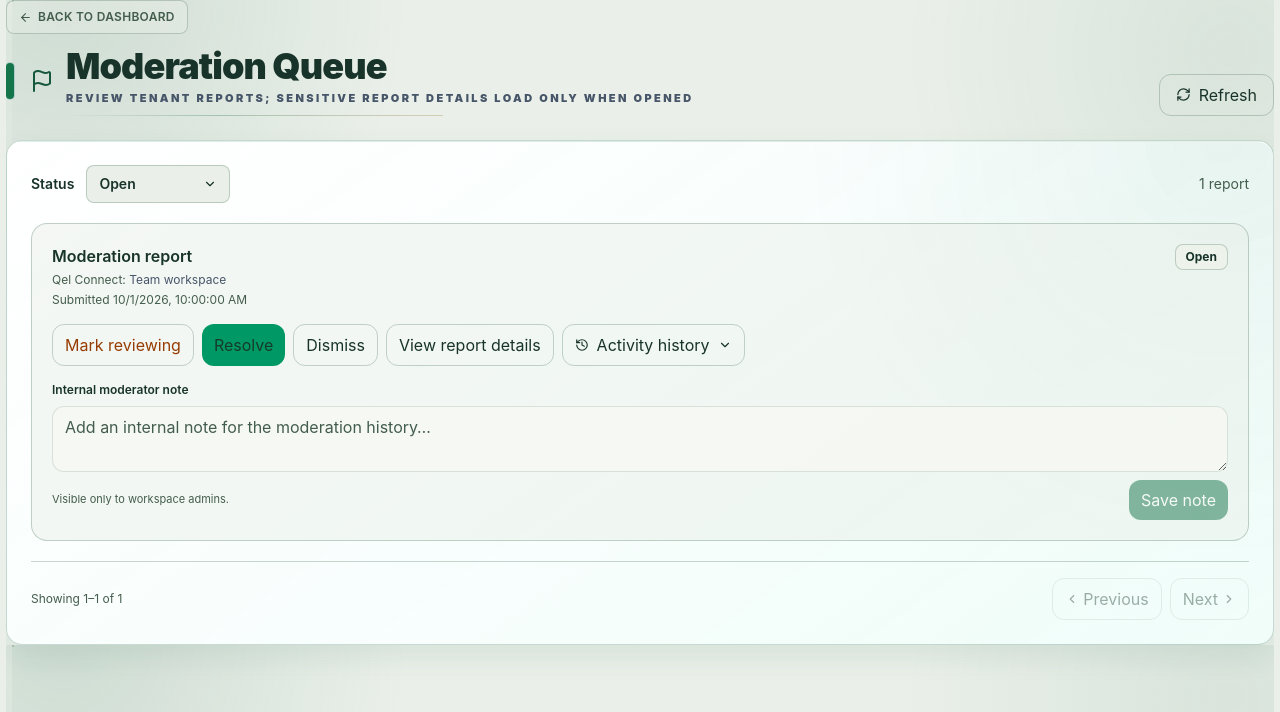
Test case: collection moderation page › saves internal notes separately and shows append-only activity history
This screenshot has width=1280, height=712.
Expected: the heading "Moderation report" is shown, [52,246,192,266]
Click the button "View report details". click: (470, 344)
box: [386,324,554,366]
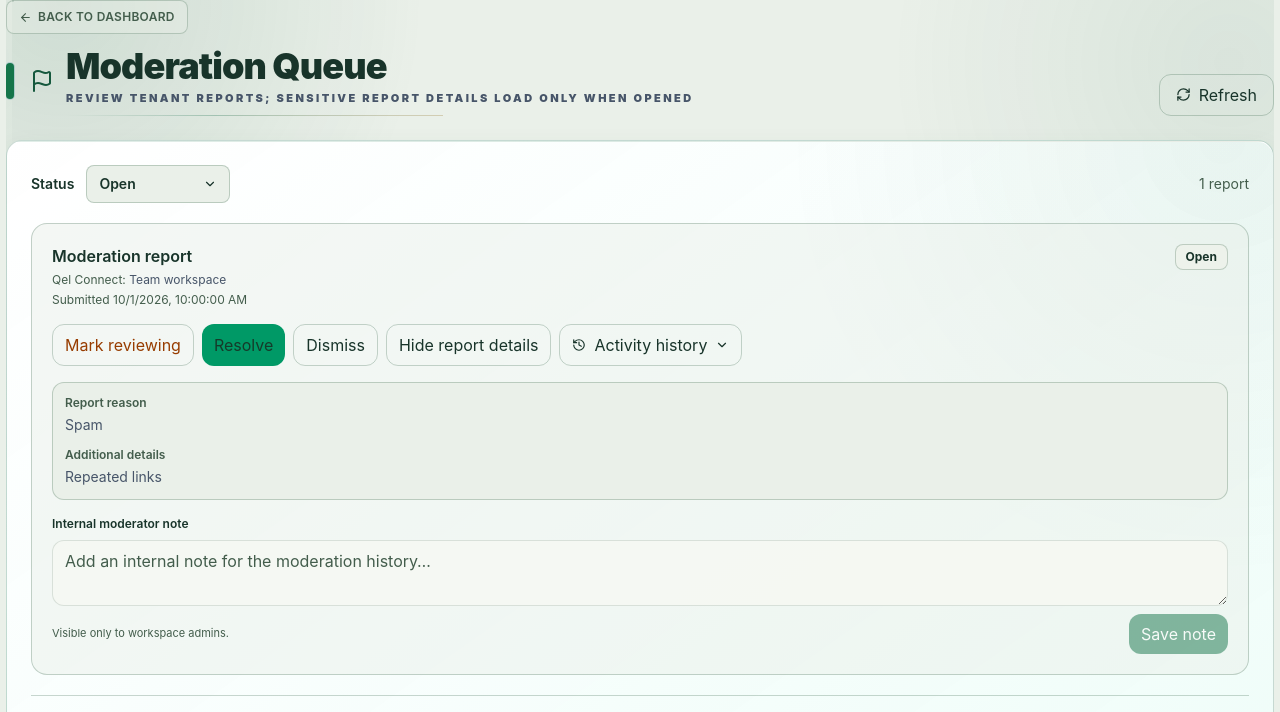
Now the text "Repeated links" is shown, box [65,468,162,484]
Type "Confirmed with the workspace owner." into the text box labelled "Internal moderator note". click: (640, 572)
box: [52,540,1228,606]
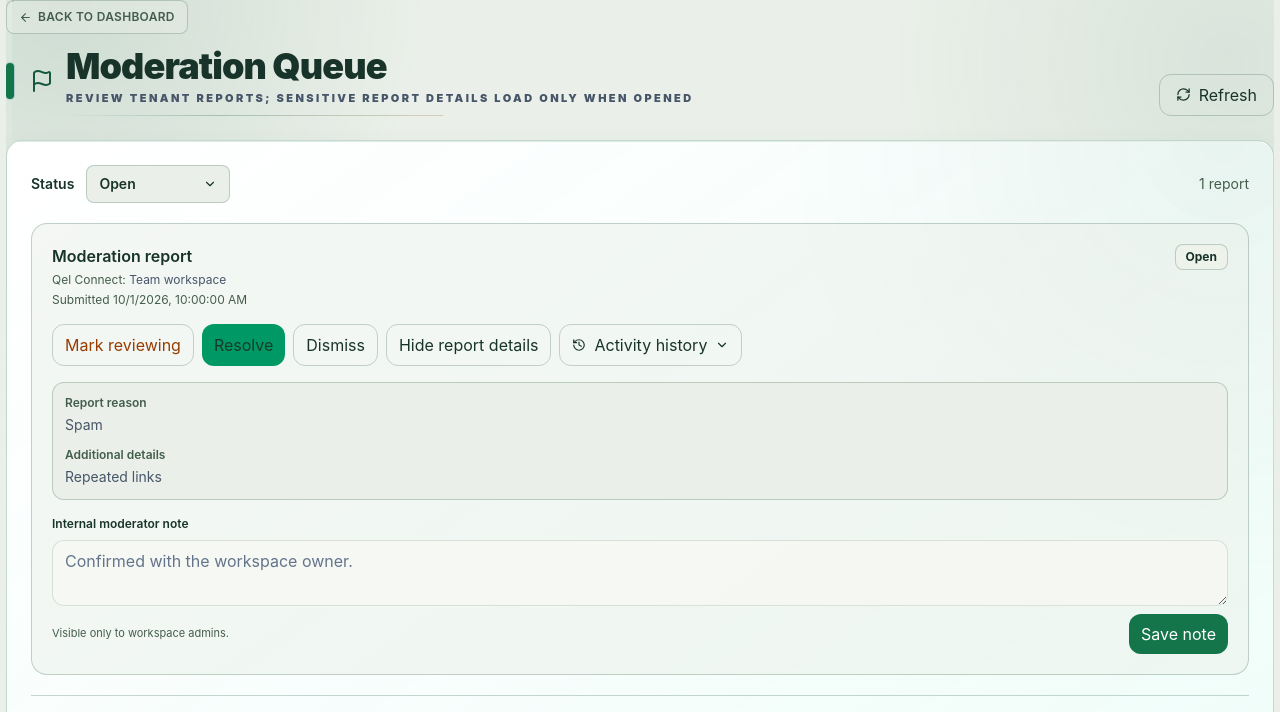
Click the button "Save note". click: (1178, 634)
box: [1129,614,1228,654]
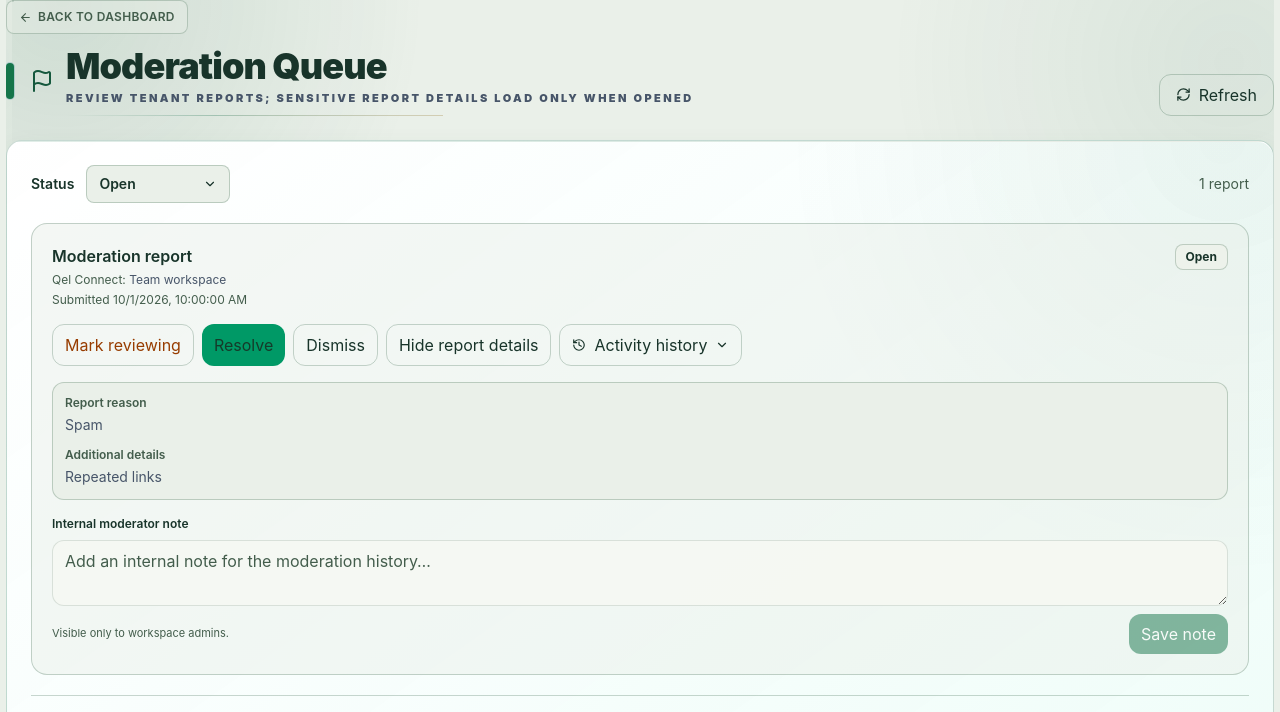
Click the button "Activity history". click: (651, 344)
box: [560,324,742,366]
(page scrolled)
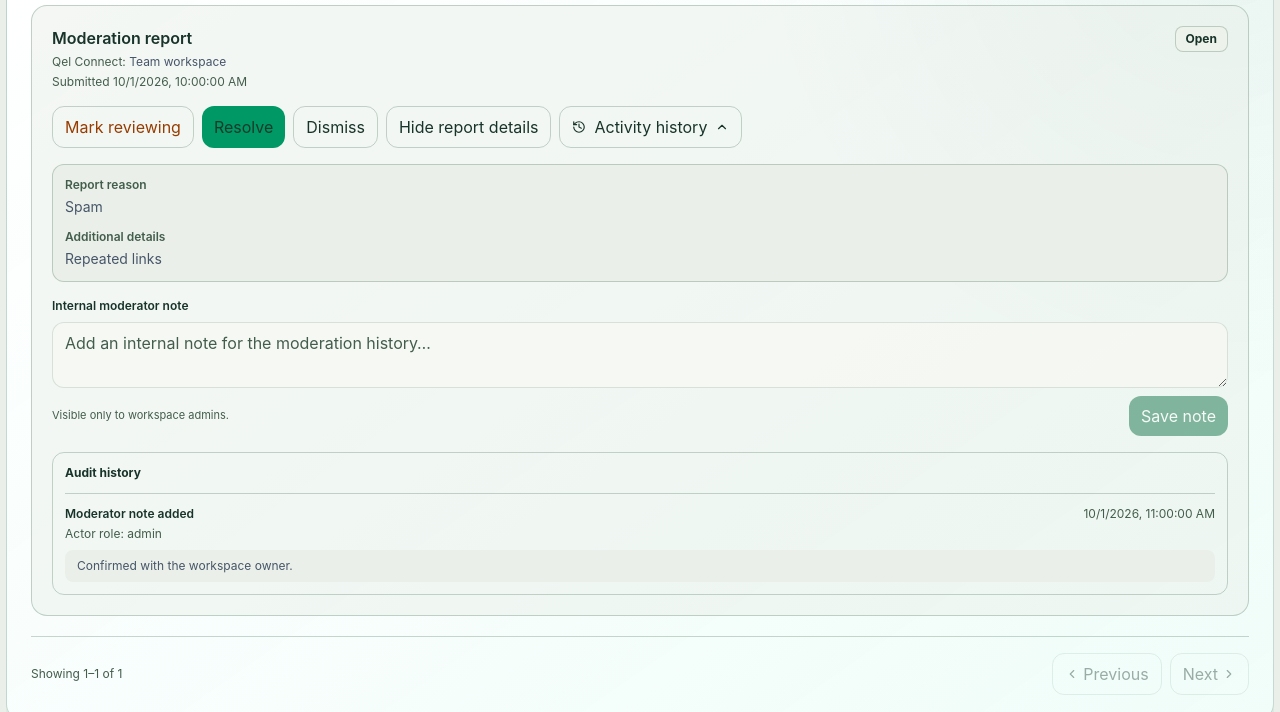
Now the text "Confirmed with the workspace owner." is shown, box [65,550,1215,582]
Now the text "Actor role: admin" is shown, box [65,526,162,540]
